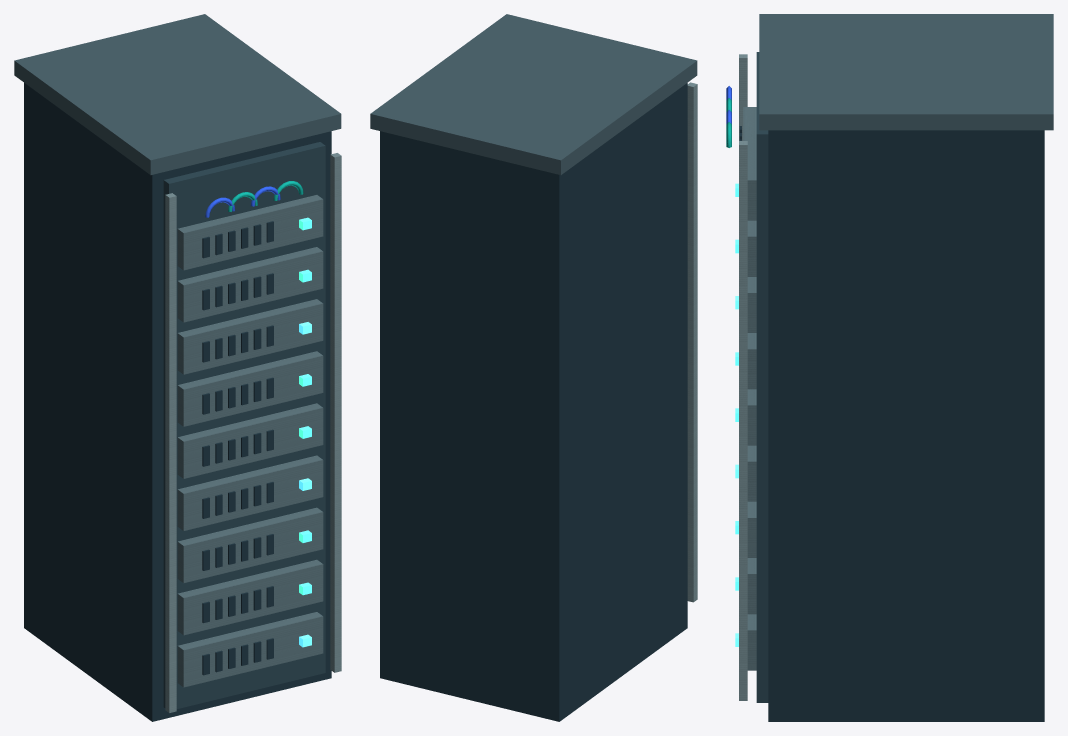
The model's file is rack.glb.
3 renders of one model, left to right at view 1: azimuth 30°, elevation 25°; view 2: azimuth 150°, elevation 25°; view 3: azimuth 270°, elevation 25°, orthographic. The views are drawn at different scales.
Visible parts, largest first — view 1: rack; view 2: rack; view 3: rack.
Boxes of the visible parts, left/top/right/bottom form: rack: left=14, top=14, right=341, bottom=721; rack: left=370, top=14, right=697, bottom=721; rack: left=726, top=14, right=1053, bottom=721.
Bounding box in the file's own units: 0.67 × 1.9 × 0.923.
9 materials, 2 textured.
